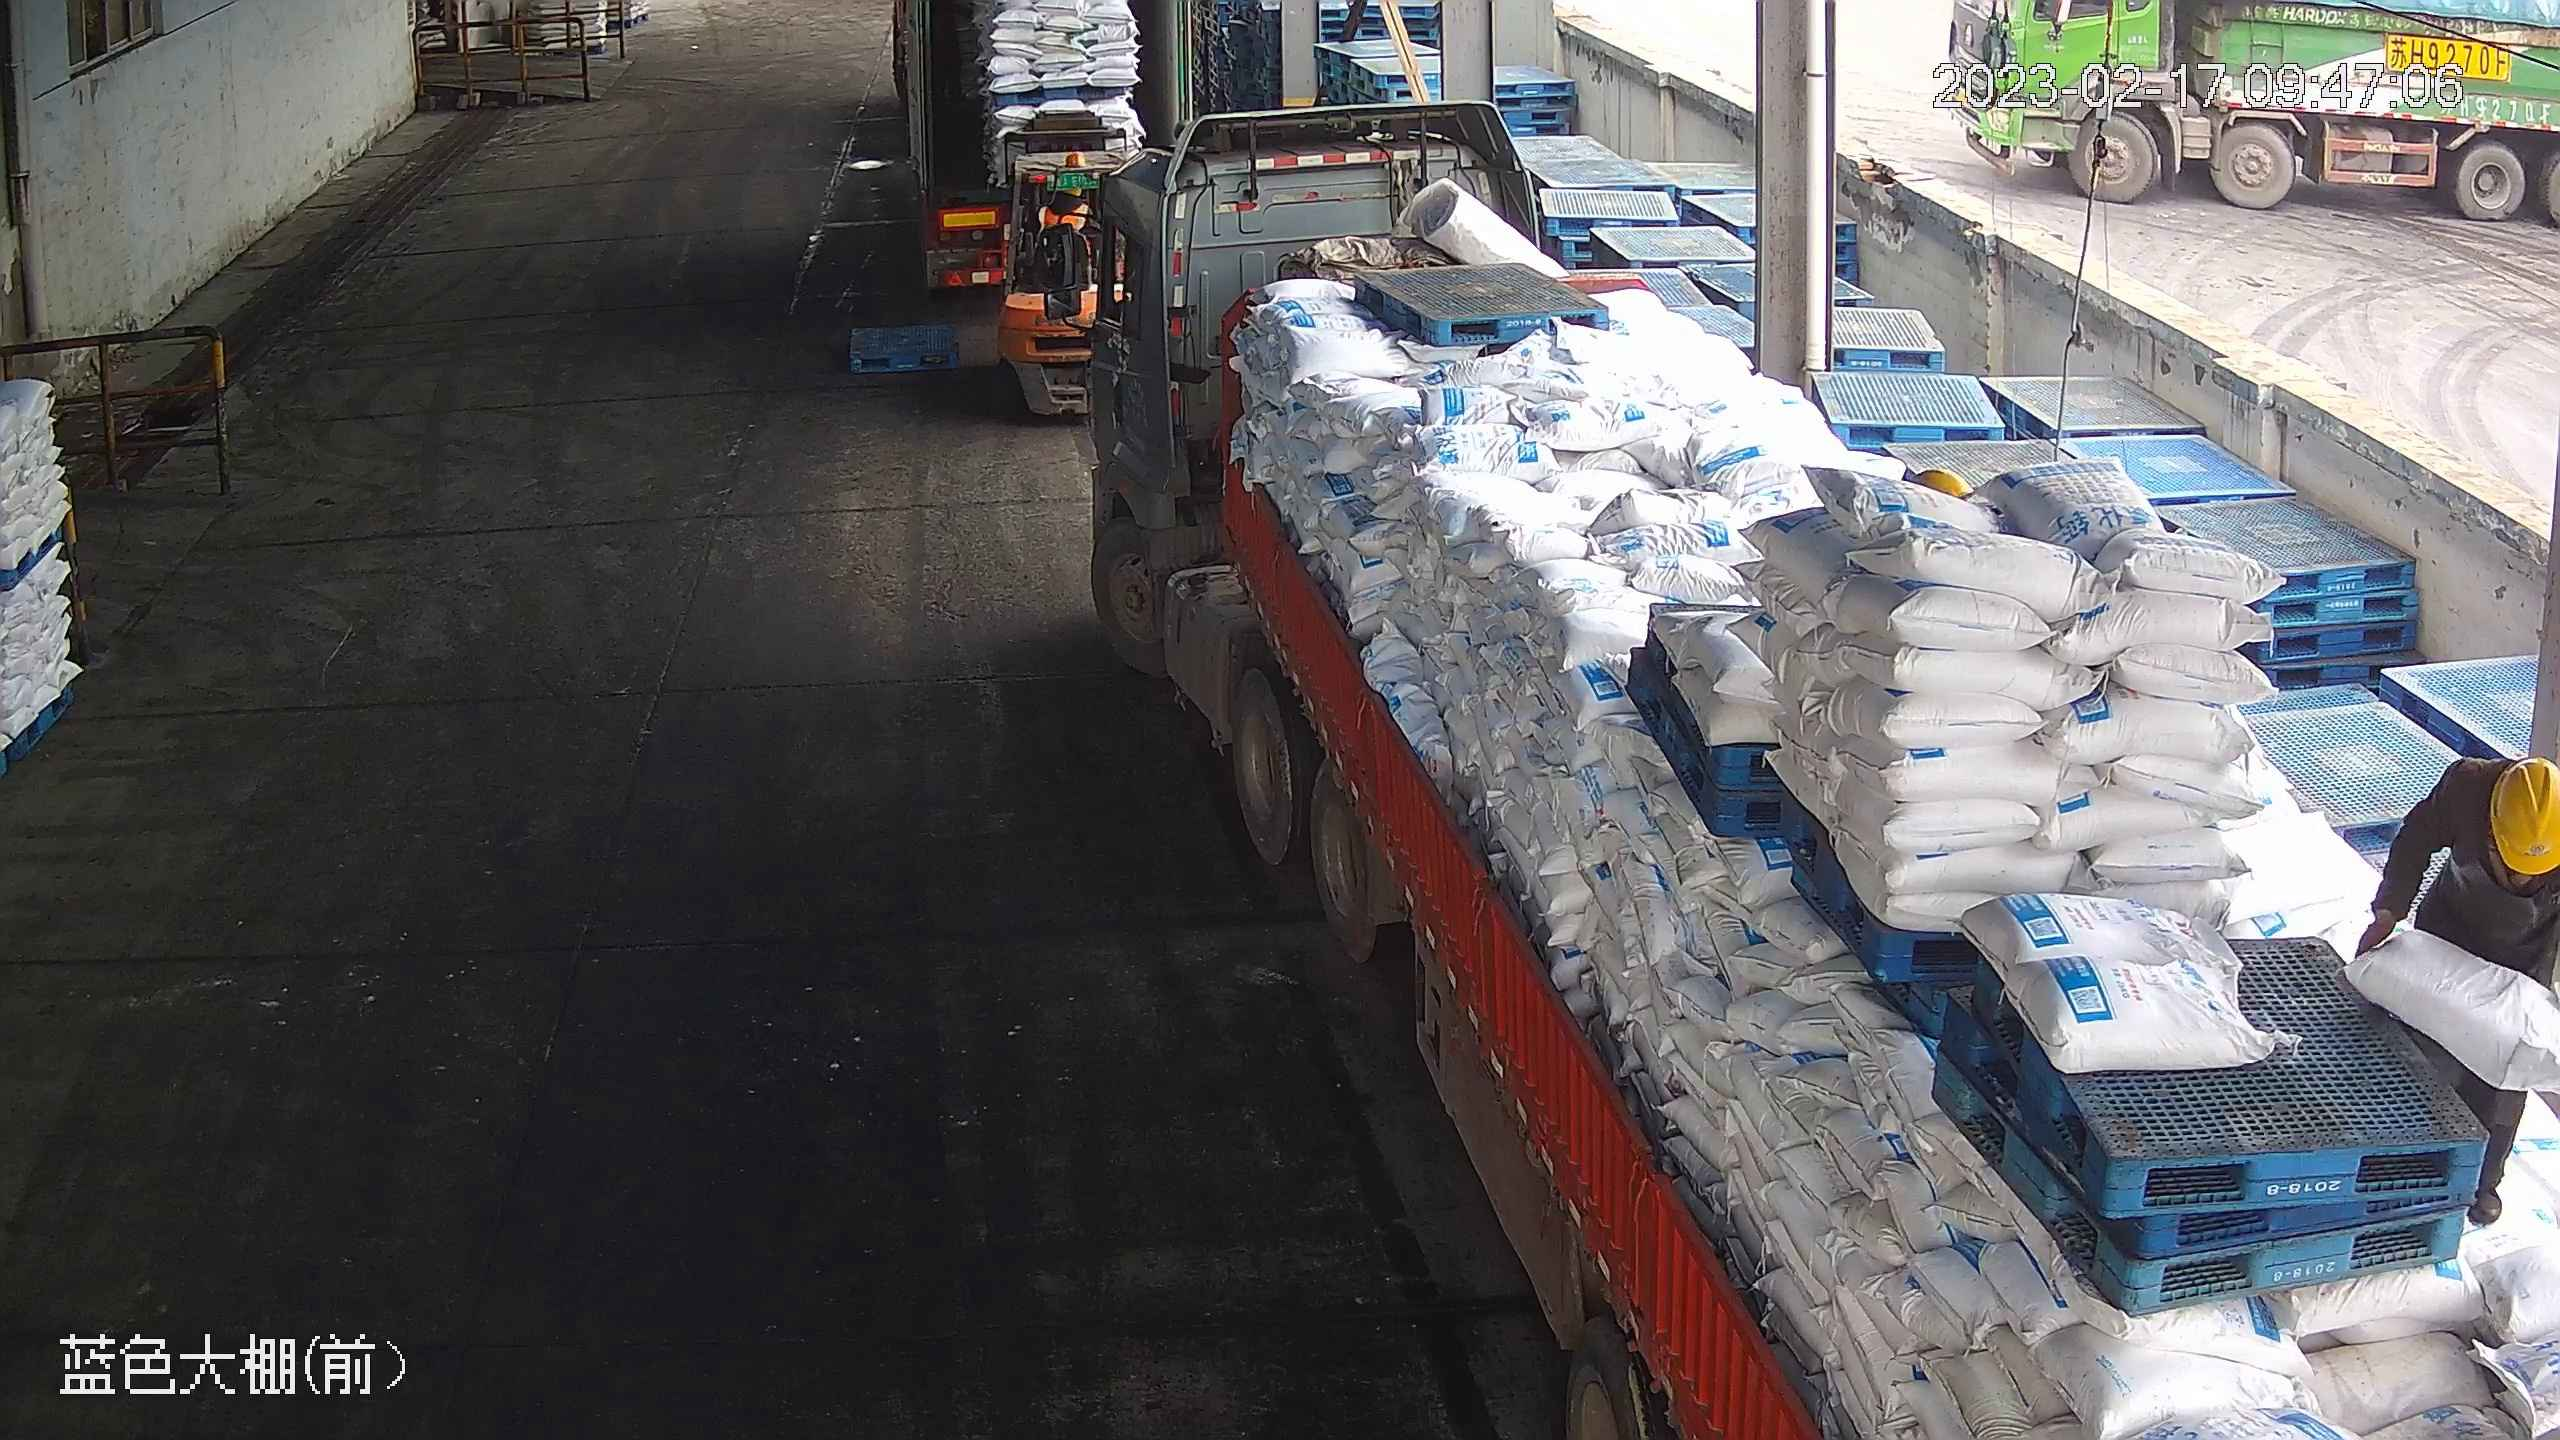head: (2430, 748, 2560, 894)
helmet: (2487, 756, 2560, 880)
people: (2348, 740, 2560, 1232)
truck: (1068, 99, 2550, 1438), (858, 1, 1197, 238)
